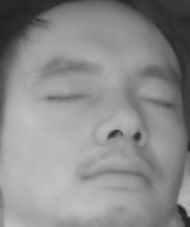blink: (47, 85, 85, 108), (140, 91, 174, 114)
mouth: (78, 149, 156, 190)
